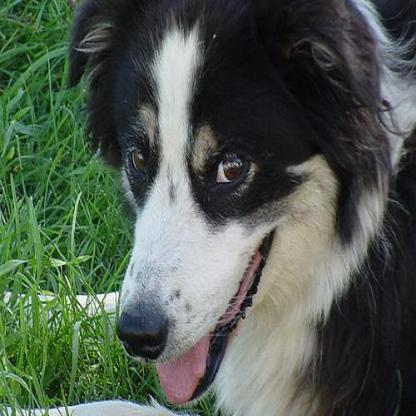Border_collie: (66, 0, 414, 414)
